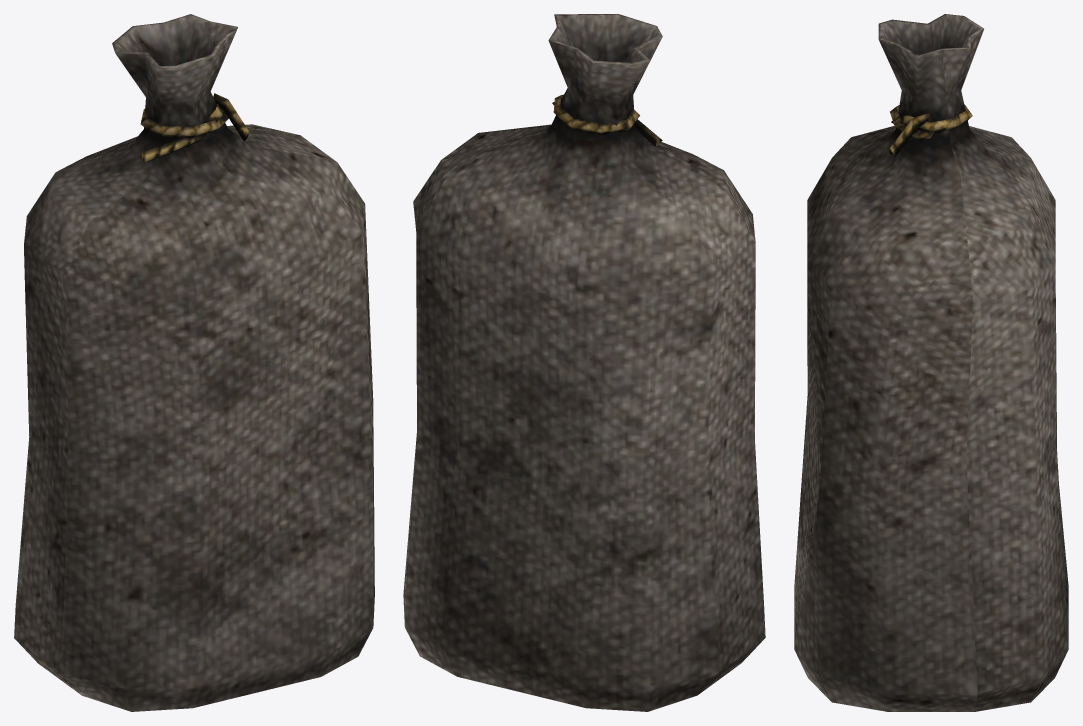
The model's file is bag02.dae.
3 views of the same model, side by side, from view 1: azimuth 30°, elevation 25°; view 2: azimuth 150°, elevation 25°; view 3: azimuth 270°, elevation 25° (orthographic).
Parts seen in each view (by area): view 1: headusOBJexport; view 2: headusOBJexport; view 3: headusOBJexport.
Part boxes in pixels (bbox=[...]): headusOBJexport: bbox=[14, 14, 374, 711]; headusOBJexport: bbox=[403, 14, 765, 711]; headusOBJexport: bbox=[794, 14, 1068, 711].
Bounding box in the file's own units: 0.4154 × 0.7936 × 0.3181.
